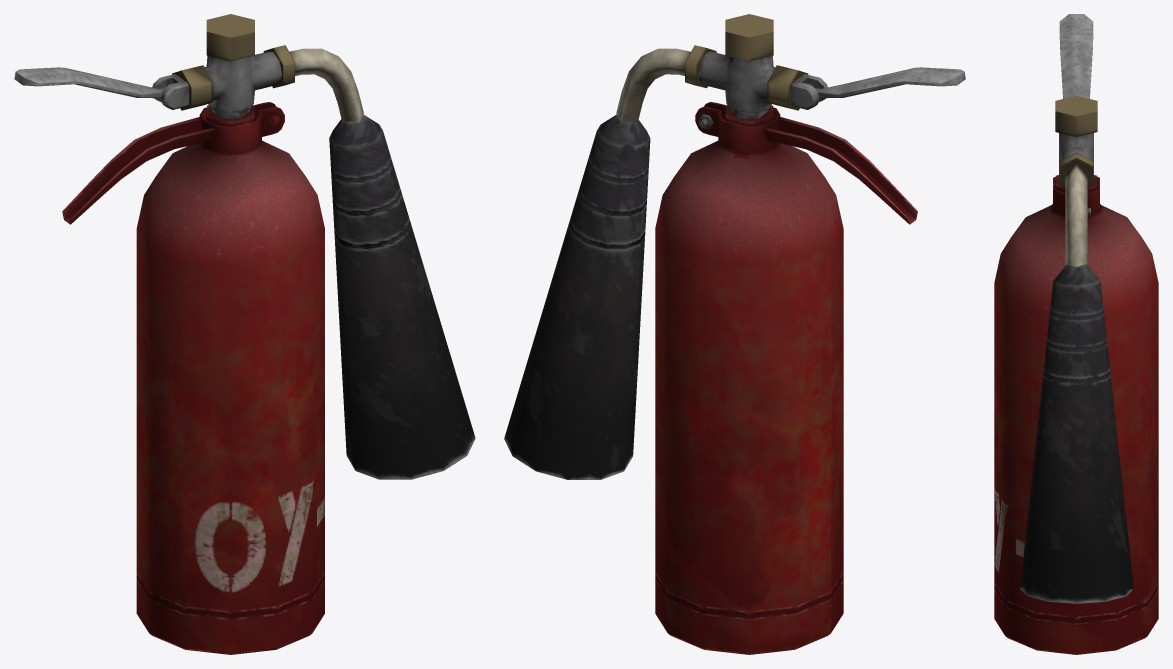
File: Extinguisher_ready.fbx
The picture shows the model from 3 angles, left to right: view 1: azimuth 30°, elevation 25°; view 2: azimuth 150°, elevation 25°; view 3: azimuth 270°, elevation 25°; orthographic projection. The views are drawn at different scales.
Parts seen in each view (by area): view 1: Object001; view 2: Object001; view 3: Object001.
Part boxes in pixels (x1=…): Object001: x1=14, y1=14, x2=475, y2=654; Object001: x1=504, y1=14, x2=965, y2=654; Object001: x1=994, y1=14, x2=1158, y2=654.
Size of the model in its own units: 73.42 by 92.86 by 26.72.
